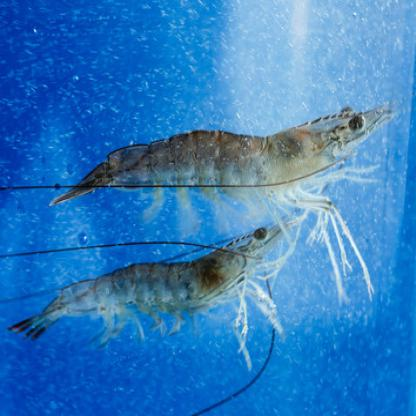shrimp: (48, 101, 390, 220), (12, 217, 313, 348)
